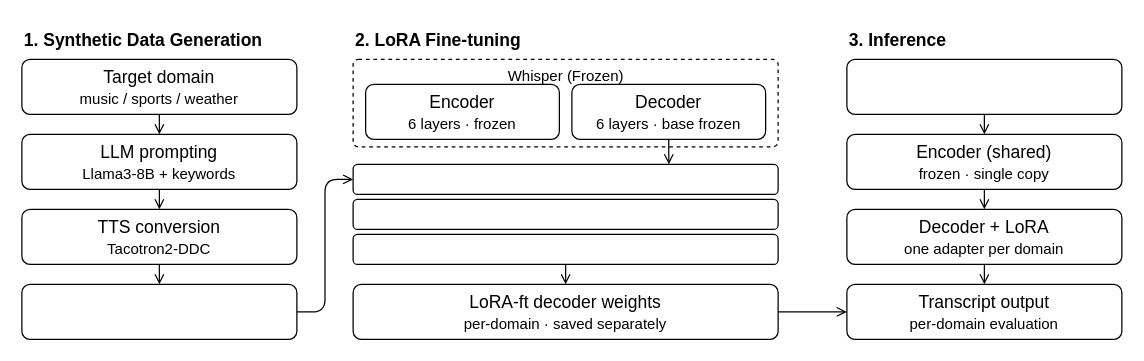
Image size: 1144x361. Some labels were removed from this diagram. Here are the shapes that lost their labels. From the top down, the centre of each, then its label:
At point 984,86: "Real speech input Common Voice – Fixie AI".
At point 565,178: "LoRA — music".
At point 565,213: "LoRA — weather".
At point 565,248: "LoRA — sports".
At point 159,311: "Synthetic dataset 30–46K samples/domain".
